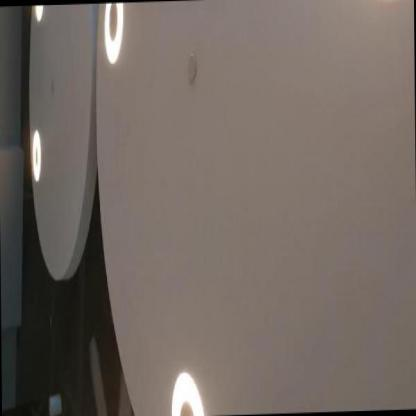light_on: (168, 354, 209, 415), (101, 3, 127, 71), (29, 118, 46, 189), (30, 5, 46, 27), (365, 0, 405, 6)
